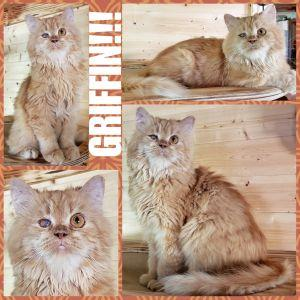persian: (128, 105, 201, 178)
